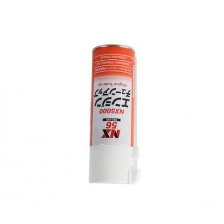aerosol_cans: (85, 40, 143, 188)
